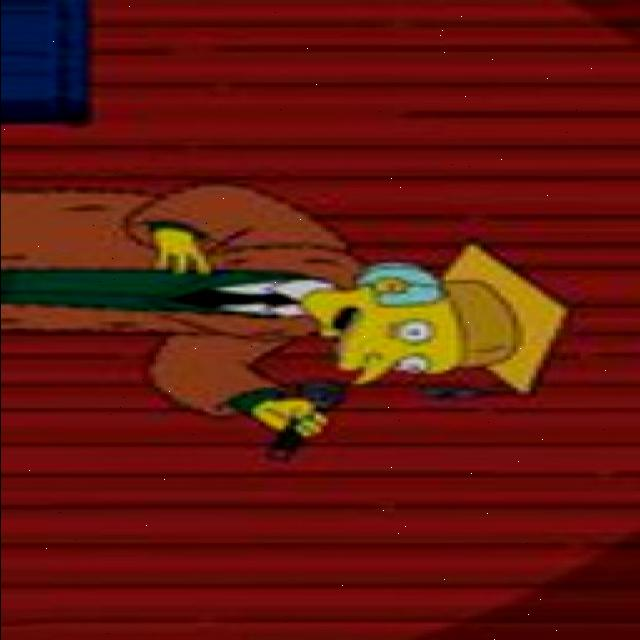Charles Montgomery Burns: (296, 252, 464, 388)
